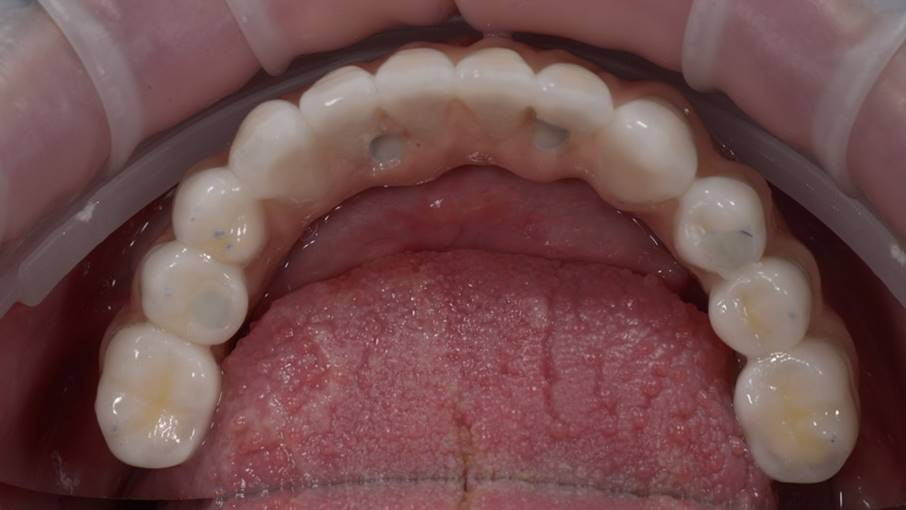UL1BC_healthy: (678, 184, 766, 278)
UL1M_healthy: (707, 265, 814, 354)
UL2M_healthy: (741, 357, 852, 479)
ULCI_healthy: (458, 54, 533, 134)
ULC_healthy: (610, 104, 697, 203)
ULLI_decay: (535, 65, 611, 142)
UR1BC_healthy: (174, 170, 265, 258)
UR1M_healthy: (103, 333, 218, 459)
UR2BC_healthy: (142, 253, 249, 338)
URCI_healthy: (381, 53, 455, 129)
URC_healthy: (235, 113, 319, 199)
URLI_healthy: (303, 71, 382, 148)
